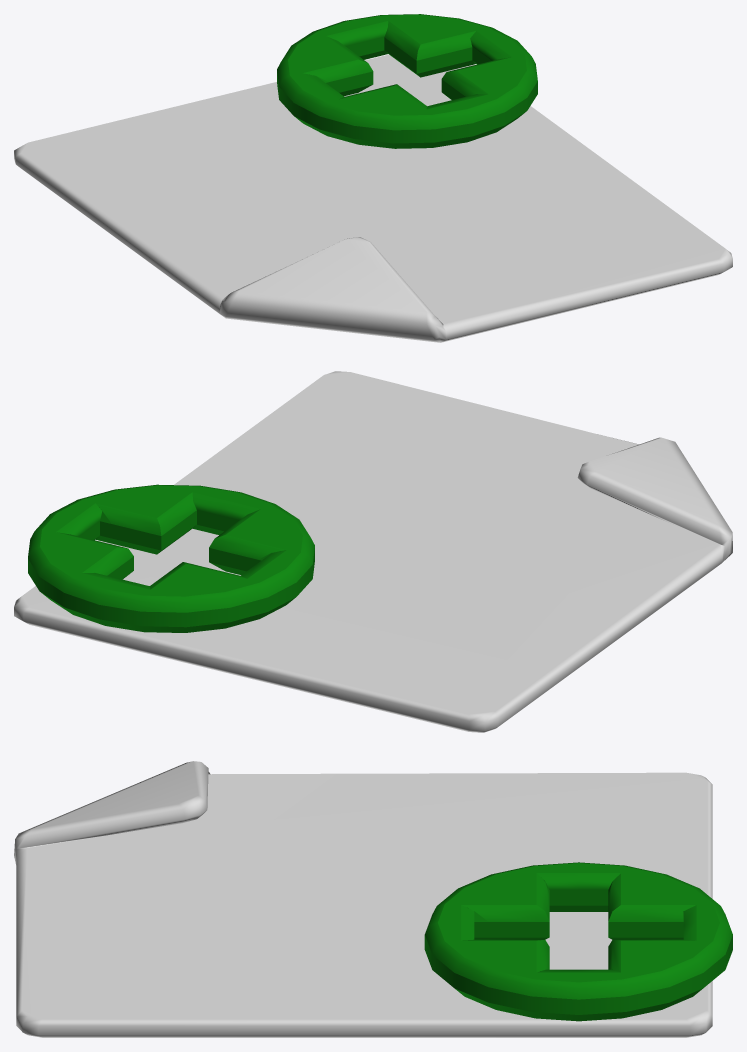
The model's file is NewButton.fbx.
3 views of the same model, one above another, from view 1: azimuth 30°, elevation 25°; view 2: azimuth 150°, elevation 25°; view 3: azimuth 270°, elevation 25° (orthographic). The views are drawn at different scales.
Visible parts, largest first — view 1: polySurface3; view 2: polySurface3; view 3: polySurface3.
Boxes of the visible parts, left/top/right/bottom form: polySurface3: left=14, top=14, right=732, bottom=342; polySurface3: left=14, top=371, right=732, bottom=732; polySurface3: left=14, top=761, right=732, bottom=1037.
Size of the model in its own units: 0.8951 by 0.1013 by 1.03.
